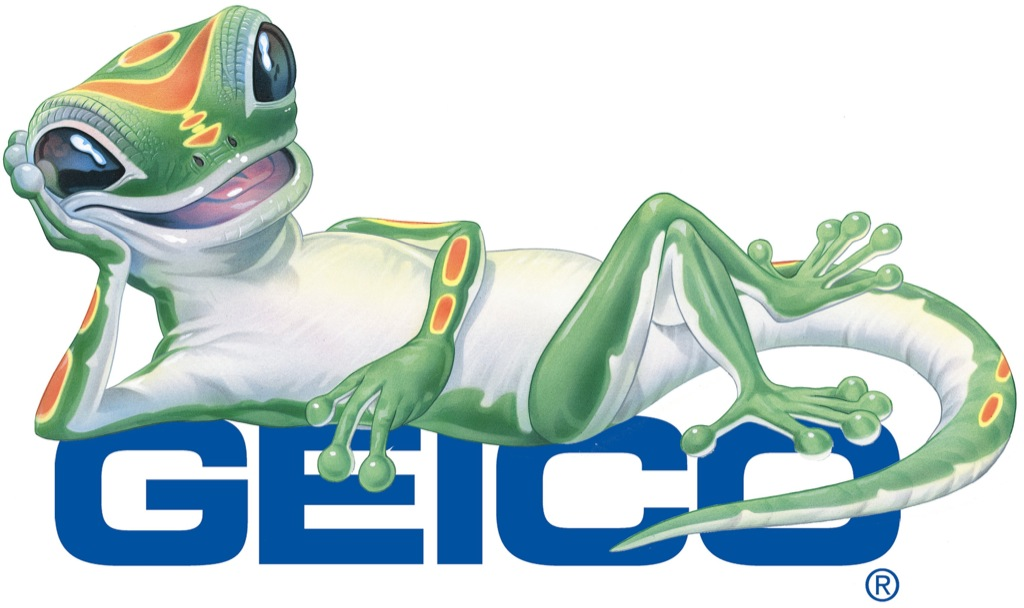Geico: (45, 422, 910, 576)
